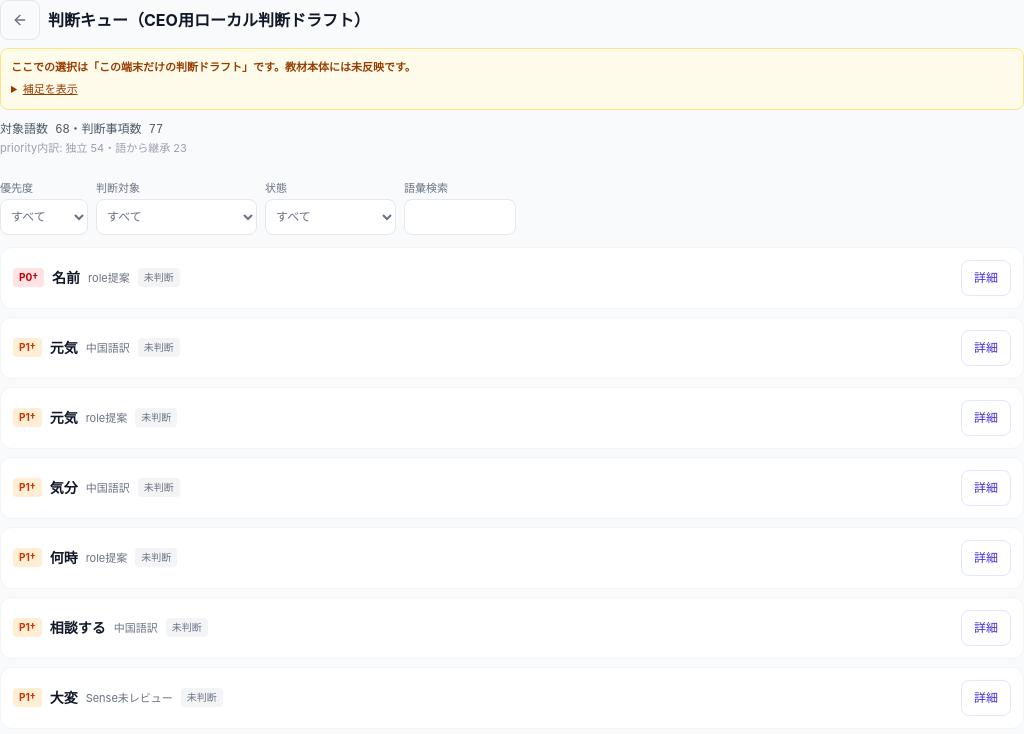
Scenario: Decision Console（labPreview限定・ローカル判断ドラフト） › 2E-1.8: 詳細に監査情報（由来）が折りたたみで出る・継承P0は†付き表示
Click the button "詳細" in the row of "名前". click: (986, 278)
box: left=961, top=260, right=1011, bottom=296
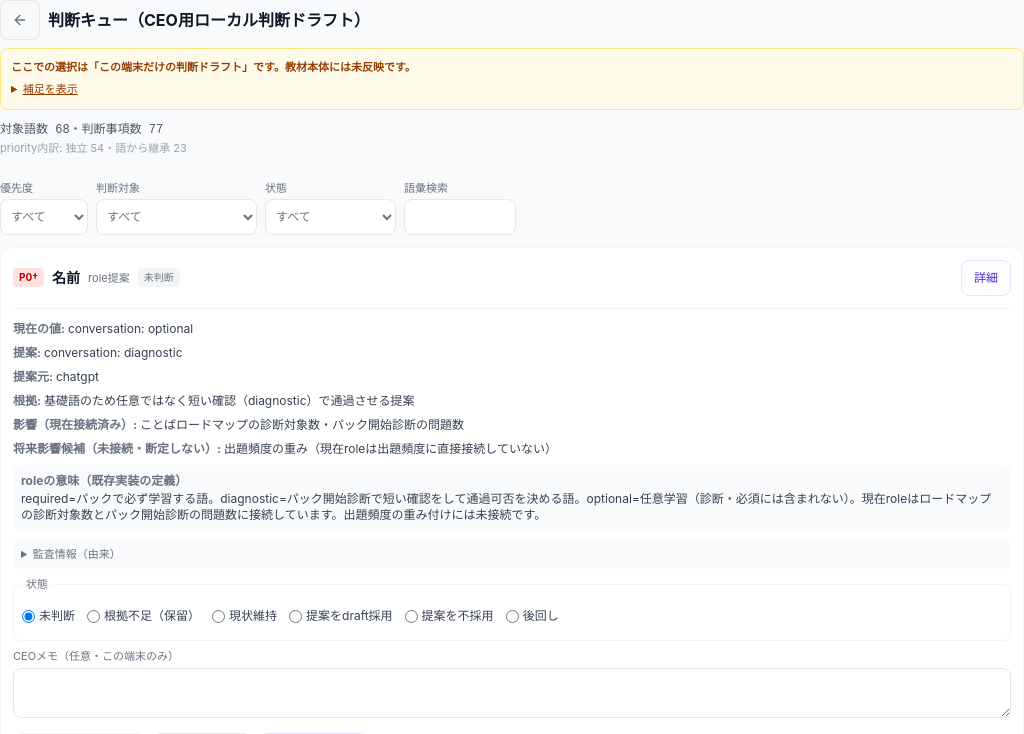
Expected: the heading "監査情報（由来）" is shown, left=33, top=547, right=121, bottom=561
